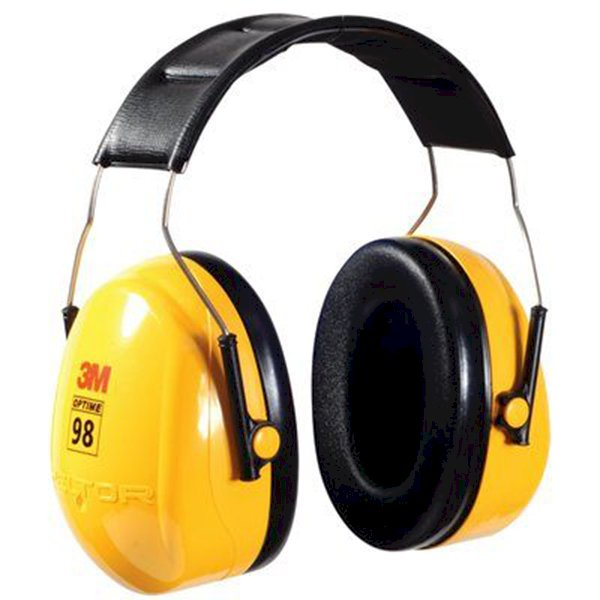3M: (74, 353, 120, 399)
